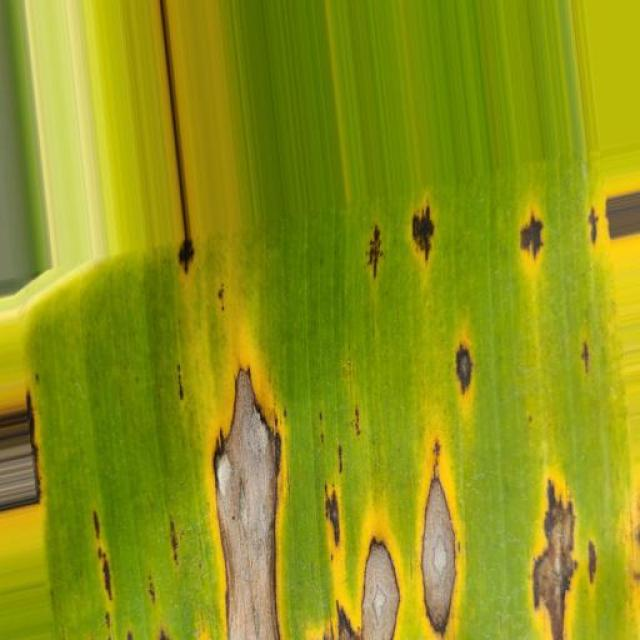Early_rust: (0, 156, 640, 640)
